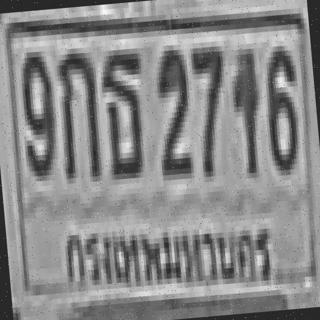A01: (52, 45, 99, 176)
A24: (97, 43, 149, 175)
N01: (226, 43, 264, 174)
N02: (150, 44, 193, 175)
N06: (261, 40, 301, 171)
N07: (187, 41, 230, 172)
N09: (16, 46, 56, 177)
P04: (58, 202, 280, 313)
